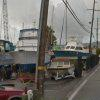Boat: (6, 20, 87, 78)
